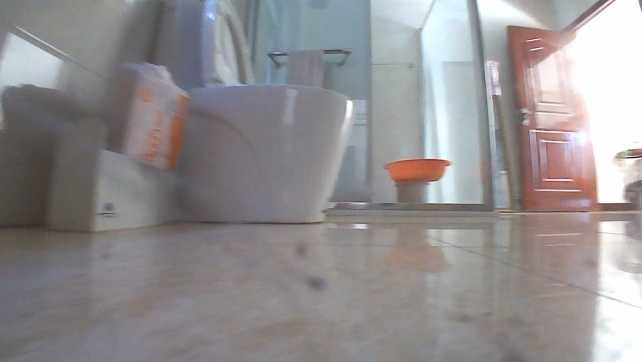toilet: (155, 3, 356, 222)
